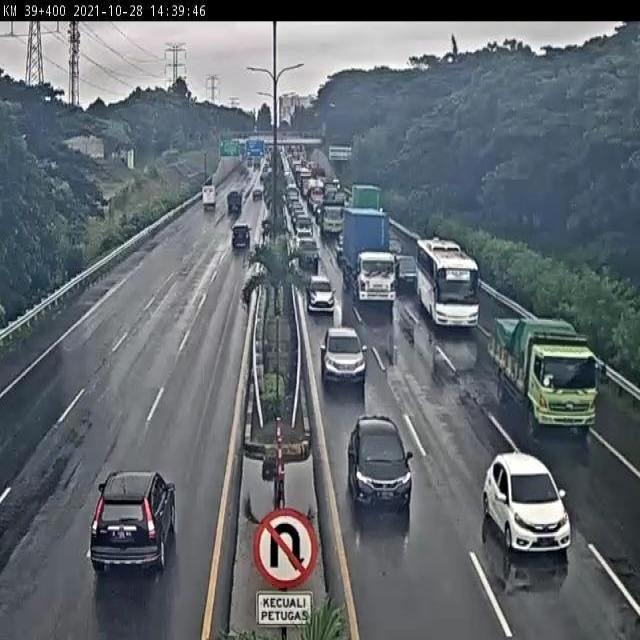Bus: (413, 226, 488, 330)
Car: (80, 477, 186, 584), (482, 451, 571, 555), (347, 414, 414, 512), (320, 325, 367, 389), (305, 275, 335, 316), (230, 215, 260, 252), (395, 254, 417, 291), (298, 242, 323, 272), (222, 187, 245, 216)
Truck: (489, 310, 612, 432), (341, 212, 394, 290), (349, 181, 388, 218), (199, 176, 217, 212)
